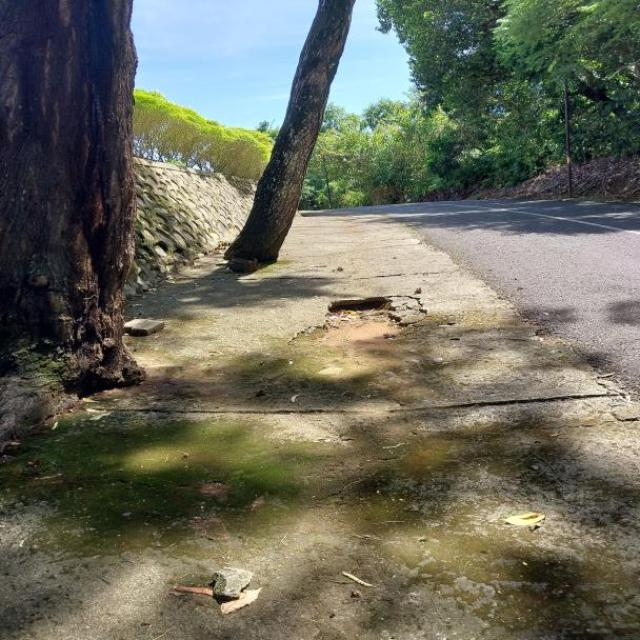tree ahead at: (229, 0, 353, 263)
